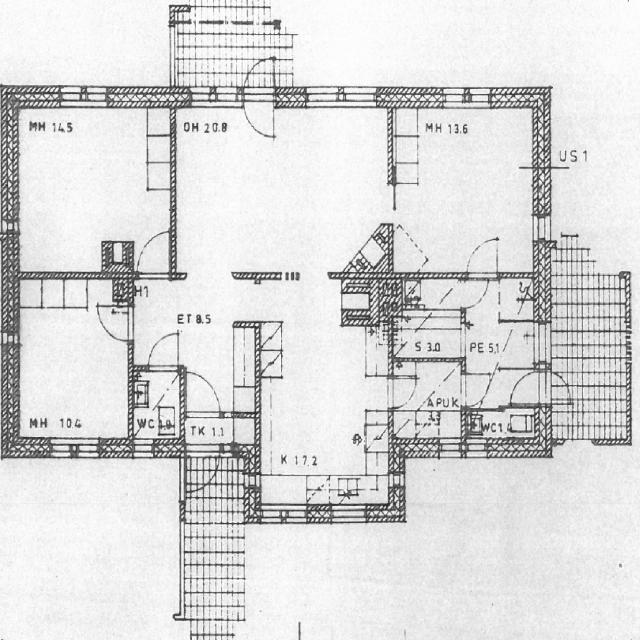door: (186, 444, 219, 498), (244, 85, 274, 144), (244, 49, 274, 107), (186, 372, 219, 418), (508, 372, 552, 403), (534, 372, 577, 403), (137, 234, 168, 277), (467, 235, 497, 277), (150, 332, 178, 372), (101, 306, 133, 340), (461, 374, 492, 406), (388, 379, 416, 408), (461, 280, 488, 306)
